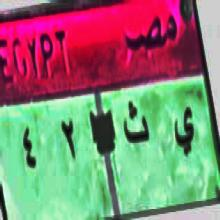2: (60, 110, 78, 176)
4: (21, 122, 38, 180)
thaa: (122, 97, 151, 154)
yaa: (171, 101, 196, 165)
